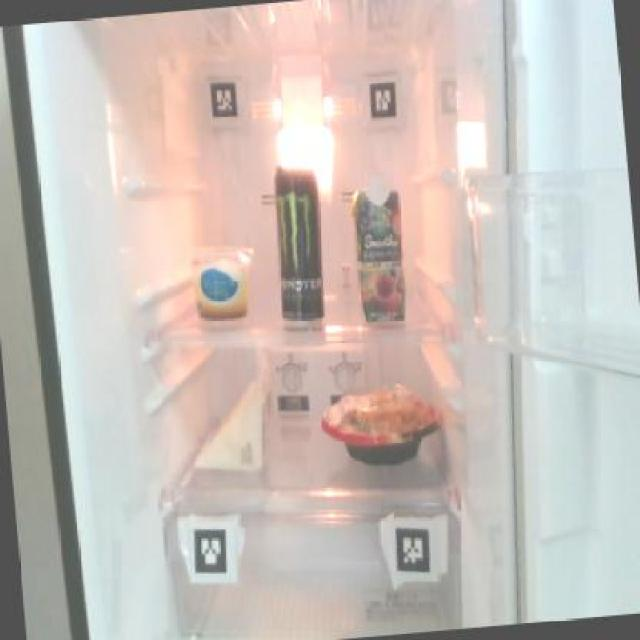bento: (316, 386, 442, 469)
energy_drink: (268, 161, 329, 327)
pudding: (185, 236, 257, 330)
sandwich: (182, 354, 278, 480)
smoothie: (348, 168, 410, 324)
